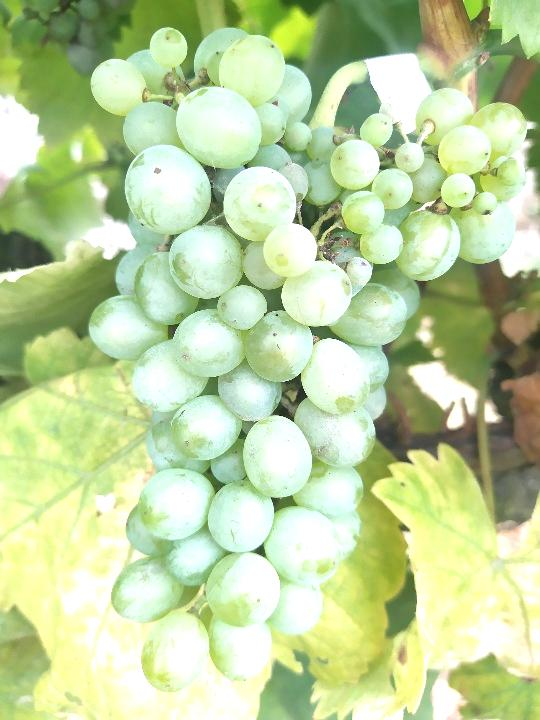grape: (85, 22, 530, 695)
